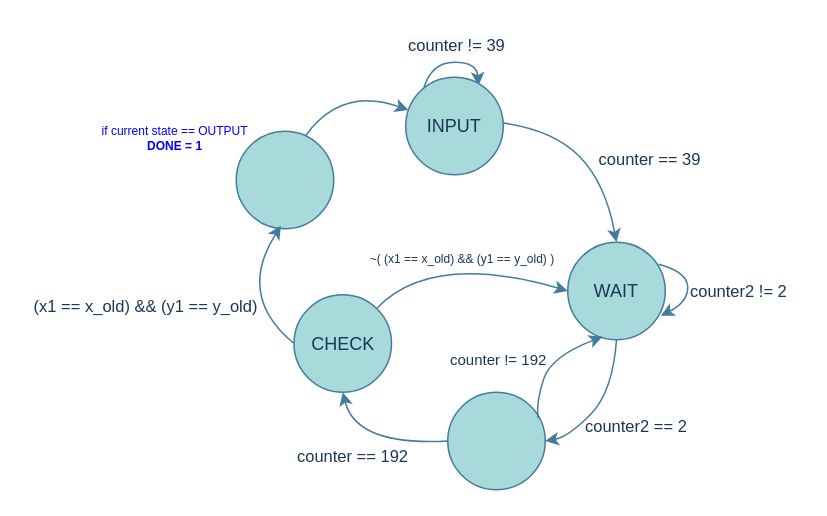
This 827x516 diagram has some shape labels left out. Each missing label, with the centre of its shape:
FIND: point (495, 440)
OUTPUT: point (284, 179)
